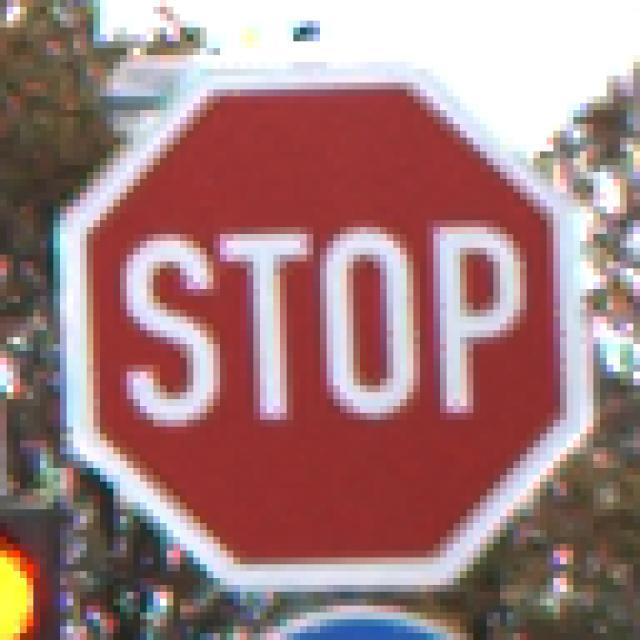stop: (46, 61, 601, 597)
